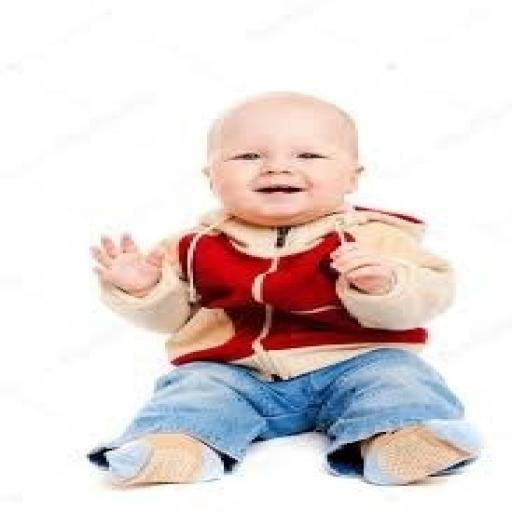clapping: (84, 89, 484, 490)
